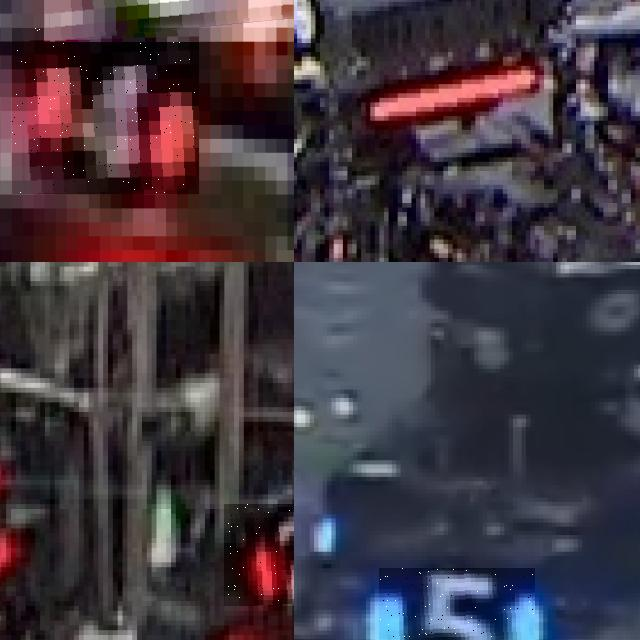B5: (379, 568, 534, 640)
R2: (224, 504, 294, 606)
R4: (12, 28, 199, 194), (44, 0, 294, 41)
